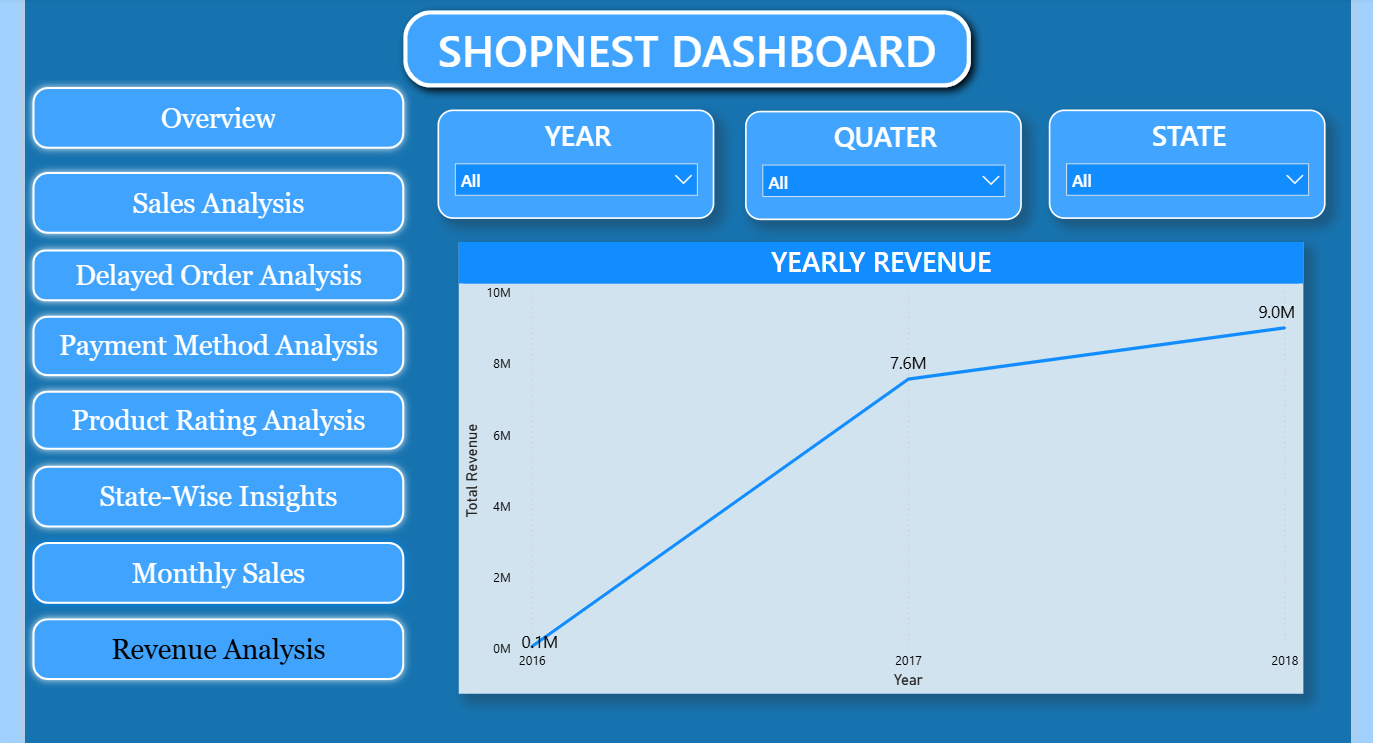

This screenshot's page, from the dashboard's own definition file:
{"tool":"powerbi","page":{"name":"Revenue Analysis","canvas":[1280,720],"ordinal":7},"visuals":[{"type":"shape","box":[352.7,0,573.6,100.2],"z":0},{"type":"slicer","title":"YEAR","fields":{"Values":["orders_dataset.Year"]},"box":[397.9,108.4,267.6,105.7],"z":1000},{"type":"slicer","title":"QUATER","fields":{"Values":["orders_dataset.Quarter"]},"box":[694.3,109.8,267.6,105.7],"z":2000},{"type":"slicer","title":"STATE","fields":{"Values":["orders_dataset.state"]},"box":[988,108.4,267.6,105.7],"z":3000},{"type":"lineChart","title":"YEARLY REVENUE","fields":{"Category":["orders_dataset.Year"],"Y":["Calculated Measures.Total Revenue"]},"box":[418.5,236,815.1,436.4],"z":4000},{"type":"shape","box":[0,236,373.2,64.5],"z":5000},{"type":"shape","box":[0,161.9,373.2,74.1],"z":6000},{"type":"shape","box":[0,300.5,373.2,72.7],"z":7000},{"type":"shape","box":[0,444.6,373.2,74.1],"z":8000},{"type":"shape","box":[0,373.2,373.2,71.4],"z":9000},{"type":"shape","box":[0,592.8,373.2,74.1],"z":10000},{"type":"shape","box":[0,518.7,373.2,74.1],"z":11000},{"type":"shape","box":[0,79.6,373.2,74.1],"z":12000}]}

Visuals, with their boxes on the page's 1280x720 design canvas (x1, y1, x2, y2). These are canvas units, not pixel positions in the 1373x743 screenshot, which may show the page scaled, cropped or inside an application window:
shape: locate(353, 0, 926, 100)
"YEAR" slicer: locate(398, 108, 666, 214)
"QUATER" slicer: locate(694, 110, 962, 216)
"STATE" slicer: locate(988, 108, 1256, 214)
"YEARLY REVENUE" lineChart: locate(418, 236, 1234, 672)
shape: locate(0, 236, 373, 300)
shape: locate(0, 162, 373, 236)
shape: locate(0, 300, 373, 373)
shape: locate(0, 445, 373, 519)
shape: locate(0, 373, 373, 445)
shape: locate(0, 593, 373, 667)
shape: locate(0, 519, 373, 593)
shape: locate(0, 80, 373, 154)
